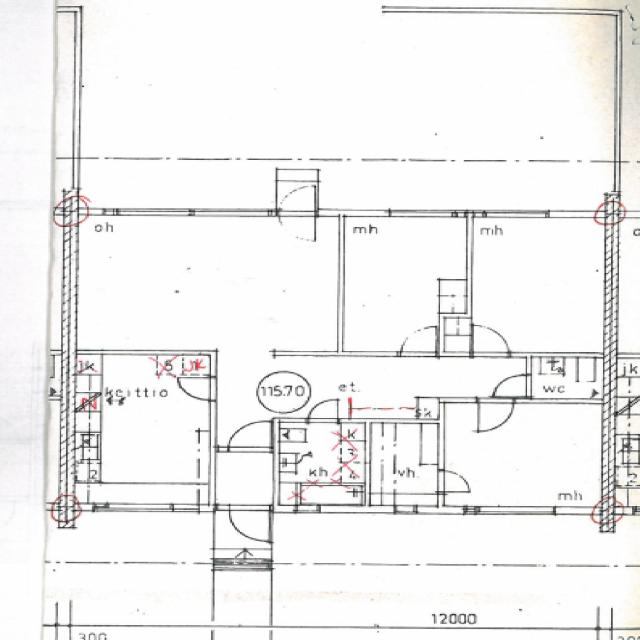door: (230, 505, 270, 543), (229, 416, 270, 453), (279, 210, 316, 247), (279, 182, 316, 218), (478, 399, 516, 432), (400, 323, 437, 356), (476, 324, 510, 356), (307, 394, 338, 424), (438, 470, 474, 492), (182, 378, 217, 400), (500, 374, 534, 395)
